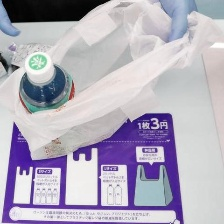bottle: (16, 48, 78, 112)
plastic_bag: (0, 0, 223, 161)
